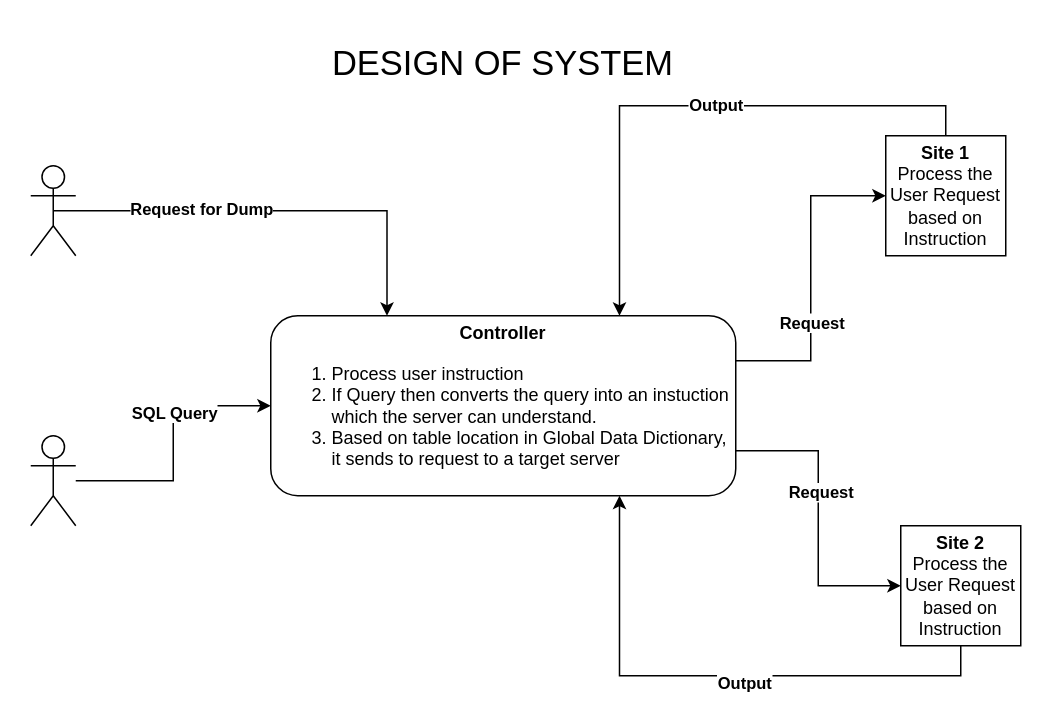
Image size: 1047x717. Some labels were removed from this diagram. The box of each missing label's shape, as (x1, y1, x2, y2) in pixels:
User 1: (29, 164, 76, 256)
User 2: (29, 434, 76, 526)
